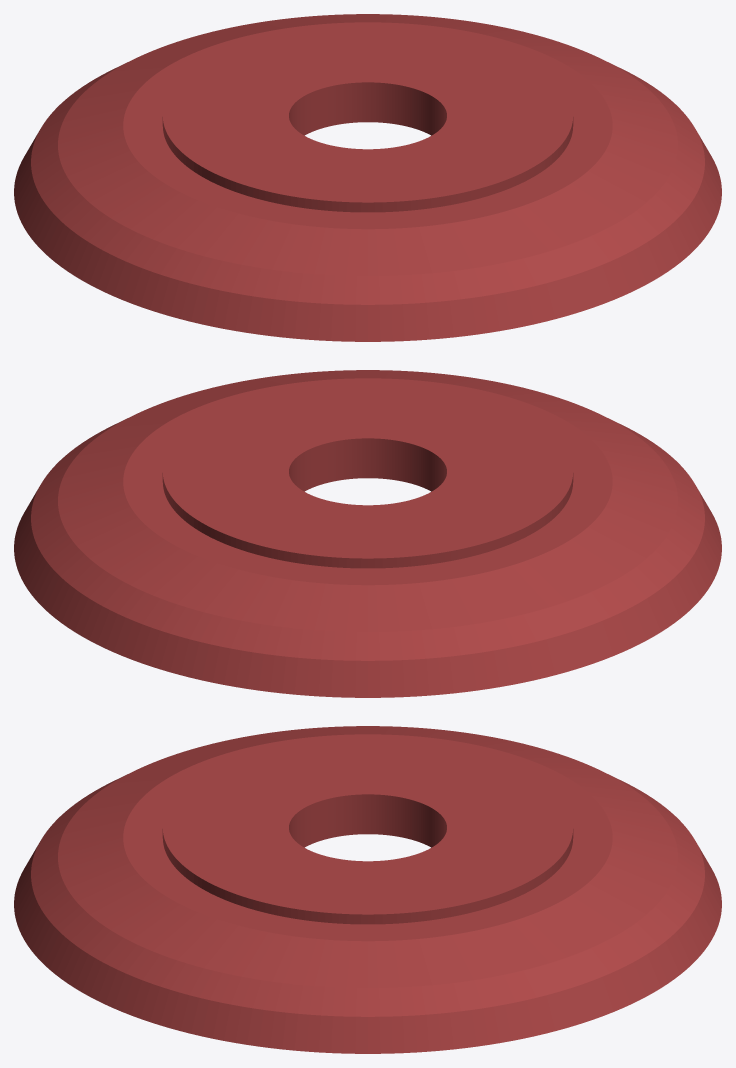
The model's file is TopfdeckelTeil-19.glb.
3 views of the same model, one above another, from view 1: azimuth 30°, elevation 25°; view 2: azimuth 150°, elevation 25°; view 3: azimuth 270°, elevation 25° (orthographic).
Bounding box in the file's own units: 64.45 × 7.68 × 64.45.
